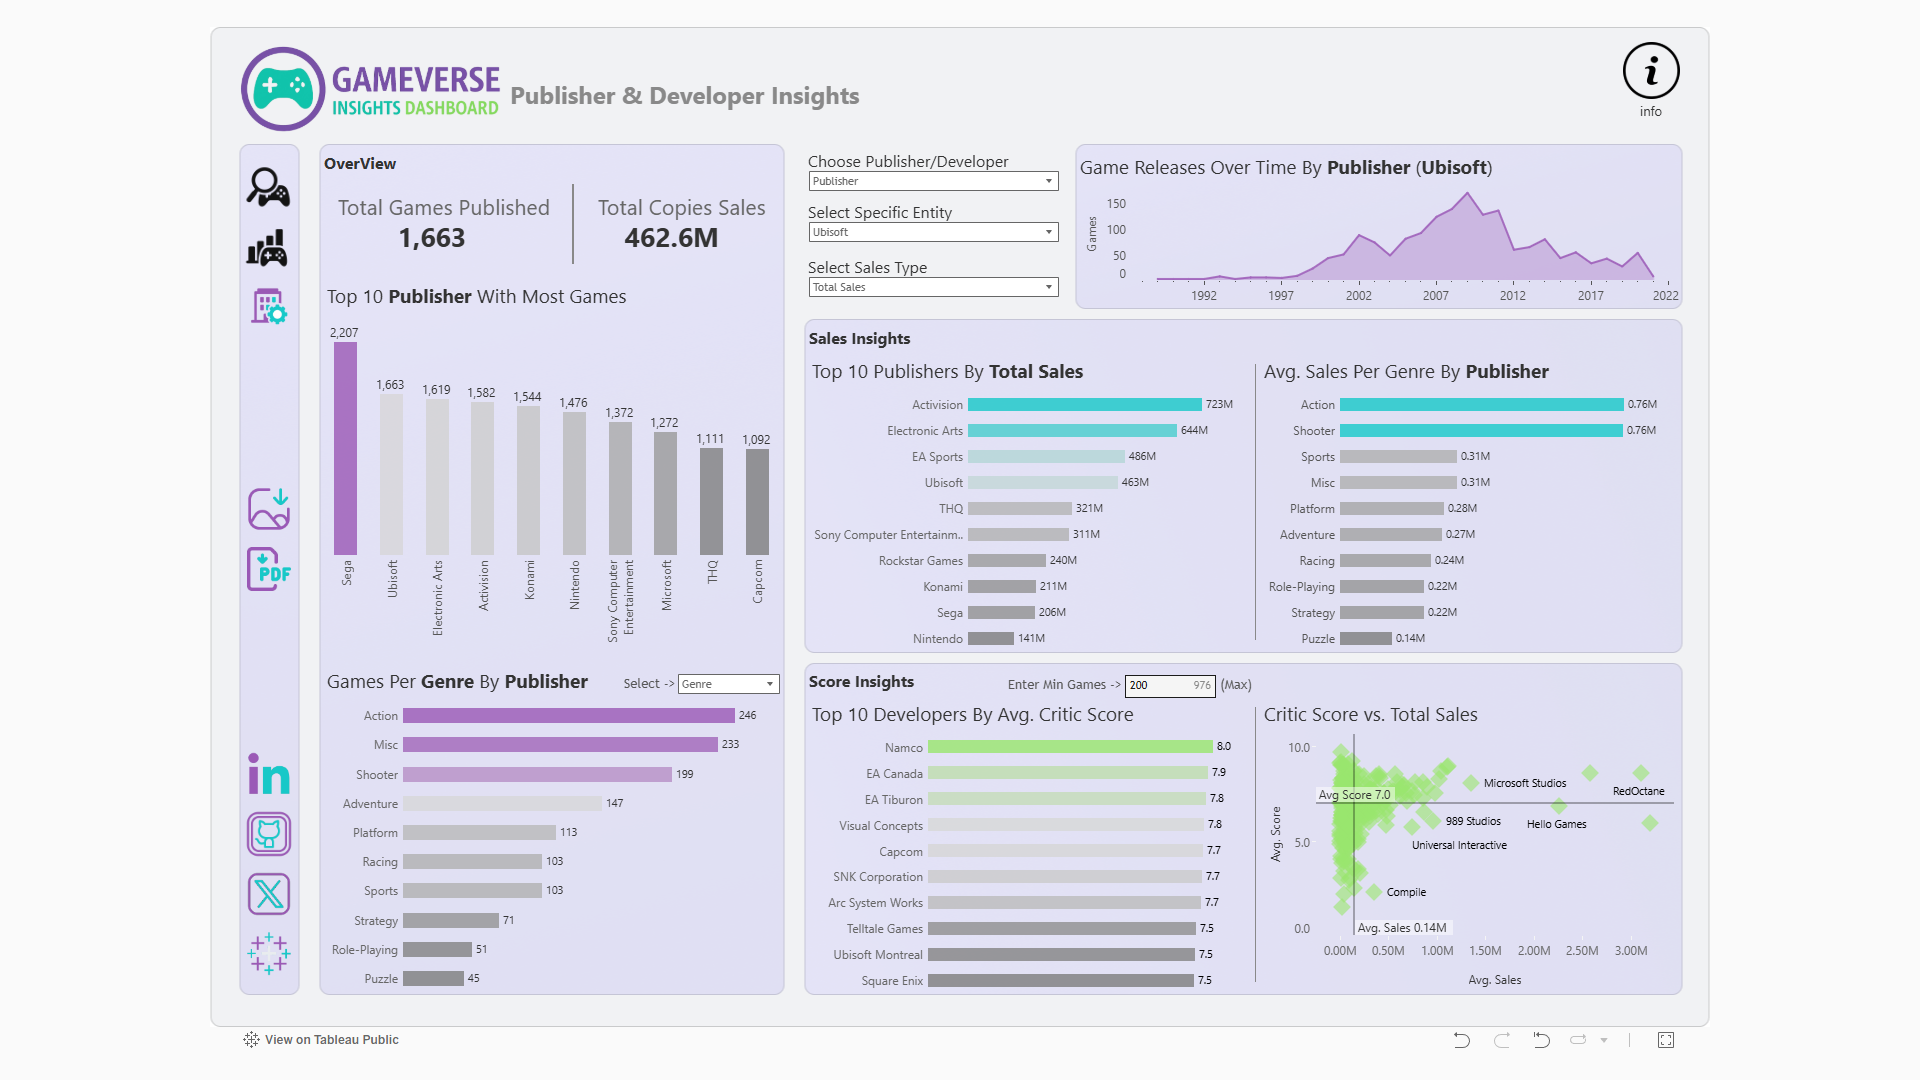

The dashboard page shown, as its layout file describes it:
{"tool":"tableau","page":{"name":"Dashboard 3","canvas":[1400,800],"ordinal":2},"visuals":[{"type":"image","param":"Image/Frame 3.png","box":[0,0,1400,800]},{"type":"blank","box":[26,3,698,98]},{"type":"image","param":"Image/Logo.png","box":[8,8,260,90]},{"type":"blank","box":[268,8,1124,90]},{"type":"dashboard-object","box":[1310,17,54,54]},{"type":"text","box":[275,33,566,43]},{"type":"blank","box":[91,104,1298,186]},{"type":"blank","box":[28,108,60,10]},{"type":"text","box":[108,108,465,25]},{"type":"parameter","param":"[Parameters].[Parameter 3]","box":[593,108,260,53]},{"type":"worksheet","title":"Pub/Dev Over Time","mark":"Line","rows":["title","title"],"cols":["release_date"],"box":[863,108,509,155]},{"type":"blank","box":[106,111,466,155]},{"type":"dashboard-object","box":[28,118,60,60]},{"type":"worksheet","title":"BAN - TotalGames","mark":"Automatic","box":[108,133,253,100]},{"type":"blank","box":[361,133,2,100]},{"type":"worksheet","title":"BANs - Sales/Score","mark":"Automatic","box":[363,133,210,100]},{"type":"filter","title":"Games per Con/Gen by Pub/Dev","param":"[federated.18w1nm404yaaw618ulkqm1dnj3dy].[none:Select Specific (copy)_1203305593","box":[593,161,260,49]},{"type":"dashboard-object","box":[28,178,60,60]},{"type":"parameter","param":"[Parameters].[Parameter 2]","box":[593,210,260,53]},{"type":"worksheet","title":"Top 10 Pub/Dev","mark":"Automatic","rows":["Video Games Data.csv_87575D1885CE4F9F9E11FA6B9C9073A3"],"cols":["Calculation_1203305593479016448"],"box":[108,233,465,248]},{"type":"dashboard-object","box":[28,238,60,60]},{"type":"text","box":[593,273,779,25]},{"type":"text","box":[91,290,1298,298]},{"type":"blank","box":[28,298,60,123]},{"type":"worksheet","title":"Top 10 Pub (sales)","mark":"Automatic","rows":["publisher"],"cols":["Calculation_1052435005628178432"],"box":[593,298,385,202]},{"type":"blank","box":[978,298,1,202]},{"type":"worksheet","title":"Avg Sales Per Genre By Pub","mark":"Automatic","rows":["genre"],"cols":["Calculation_1052435005628178432"],"box":[979,298,393,202]},{"type":"dashboard-object","box":[28,421,60,55]},{"type":"dashboard-object","box":[28,476,60,55]},{"type":"worksheet","title":"Games per Con/Gen by Pub/Dev","mark":"Automatic","rows":["Calculation_1272829846112575488"],"cols":["Video Games Data.csv_87575D1885CE4F9F9E11FA6B9C9073A3"],"box":[108,481,465,291]},{"type":"text","box":[413,488,126,30]},{"type":"parameter","param":"[Parameters].[Parameter 1]","box":[467,492,97,48]},{"type":"text","box":[593,510,779,25]},{"type":"text","box":[749,510,126,30]},{"type":"filter","title":"Top 10 Dev (Score)","param":"[federated.18w1nm404yaaw618ulkqm1dnj3dy].[sum:Calculation_680606561990561792:qk]","box":[870,516,85,33]},{"type":"blank","box":[28,531,60,50]},{"type":"worksheet","title":"Top 10 Dev (Score)","mark":"Bar","rows":["developer"],"cols":["Calculation_680606561990733825"],"box":[593,535,385,237]},{"type":"blank","box":[978,535,1,237]},{"type":"worksheet","title":"Score vs Sales","mark":"Shape","rows":["critic_score"],"cols":["total_sales"],"box":[979,535,393,237]},{"type":"image","param":"Image/contact-linkedin.png","box":[28,581,60,60]},{"type":"blank","box":[91,588,1298,186]},{"type":"image","param":"Image/contact-github.png","box":[28,641,60,61]},{"type":"image","param":"Image/contact-public.png","box":[28,702,60,60]},{"type":"blank","box":[28,762,60,10]}]}

Visuals, with their boxes on the page's 1400x800 design canvas (x1, y1, x2, y2). These are canvas units, not pixel positions in the 1920x1080 screenshot, which may show the page scaled, cropped or inside an application window:
image: select_region(0, 0, 1400, 800)
blank: select_region(26, 3, 724, 101)
image: select_region(8, 8, 268, 98)
blank: select_region(268, 8, 1392, 98)
dashboard-object: select_region(1310, 17, 1364, 71)
text: select_region(275, 33, 841, 76)
blank: select_region(91, 104, 1389, 290)
blank: select_region(28, 108, 88, 118)
text: select_region(108, 108, 573, 133)
parameter: select_region(593, 108, 853, 161)
"Pub/Dev Over Time" worksheet (Line marks): select_region(863, 108, 1372, 263)
blank: select_region(106, 111, 572, 266)
dashboard-object: select_region(28, 118, 88, 178)
"BAN - TotalGames" worksheet: select_region(108, 133, 361, 233)
blank: select_region(361, 133, 363, 233)
"BANs - Sales/Score" worksheet: select_region(363, 133, 573, 233)
"Games per Con/Gen by Pub/Dev" filter: select_region(593, 161, 853, 210)
dashboard-object: select_region(28, 178, 88, 238)
parameter: select_region(593, 210, 853, 263)
"Top 10 Pub/Dev" worksheet: select_region(108, 233, 573, 481)
dashboard-object: select_region(28, 238, 88, 298)
text: select_region(593, 273, 1372, 298)
text: select_region(91, 290, 1389, 588)
blank: select_region(28, 298, 88, 421)
"Top 10 Pub (sales)" worksheet: select_region(593, 298, 978, 500)
blank: select_region(978, 298, 979, 500)
"Avg Sales Per Genre By Pub" worksheet: select_region(979, 298, 1372, 500)
dashboard-object: select_region(28, 421, 88, 476)
dashboard-object: select_region(28, 476, 88, 531)
"Games per Con/Gen by Pub/Dev" worksheet: select_region(108, 481, 573, 772)
text: select_region(413, 488, 539, 518)
parameter: select_region(467, 492, 564, 540)
text: select_region(593, 510, 1372, 535)
text: select_region(749, 510, 875, 540)
"Top 10 Dev (Score)" filter: select_region(870, 516, 955, 549)
blank: select_region(28, 531, 88, 581)
"Top 10 Dev (Score)" worksheet (Bar marks): select_region(593, 535, 978, 772)
blank: select_region(978, 535, 979, 772)
"Score vs Sales" worksheet (Shape marks): select_region(979, 535, 1372, 772)
image: select_region(28, 581, 88, 641)
blank: select_region(91, 588, 1389, 774)
image: select_region(28, 641, 88, 702)
image: select_region(28, 702, 88, 762)
blank: select_region(28, 762, 88, 772)
